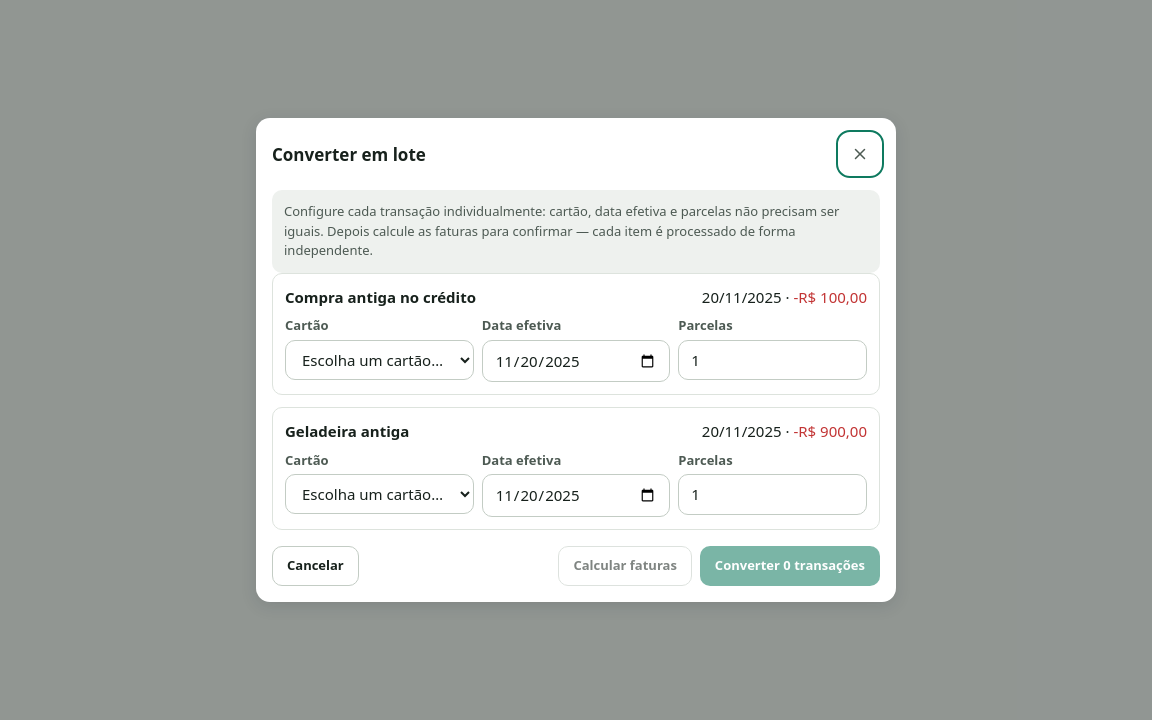
LegacyBatchConversion › previews per item and reports mixed results without hiding successes
Select "Cartão Roxo — limite disponível R$ 10.000,00" in the dropdown labelled "Cartão" below "Compra antiga no crédito" at (379, 360), box 285,340 -> 474,380
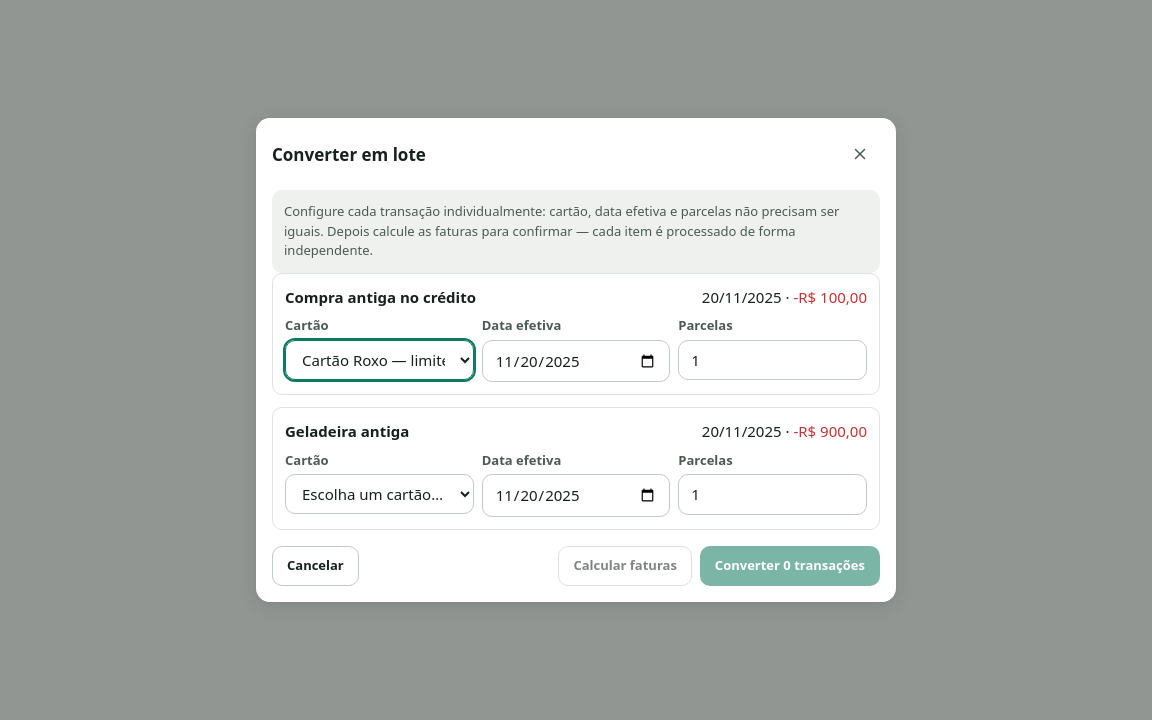
Select "Cartão Roxo — limite disponível R$ 10.000,00" in the dropdown labelled "Cartão" below "Geladeira antiga" at (379, 494), box 285,474 -> 474,514
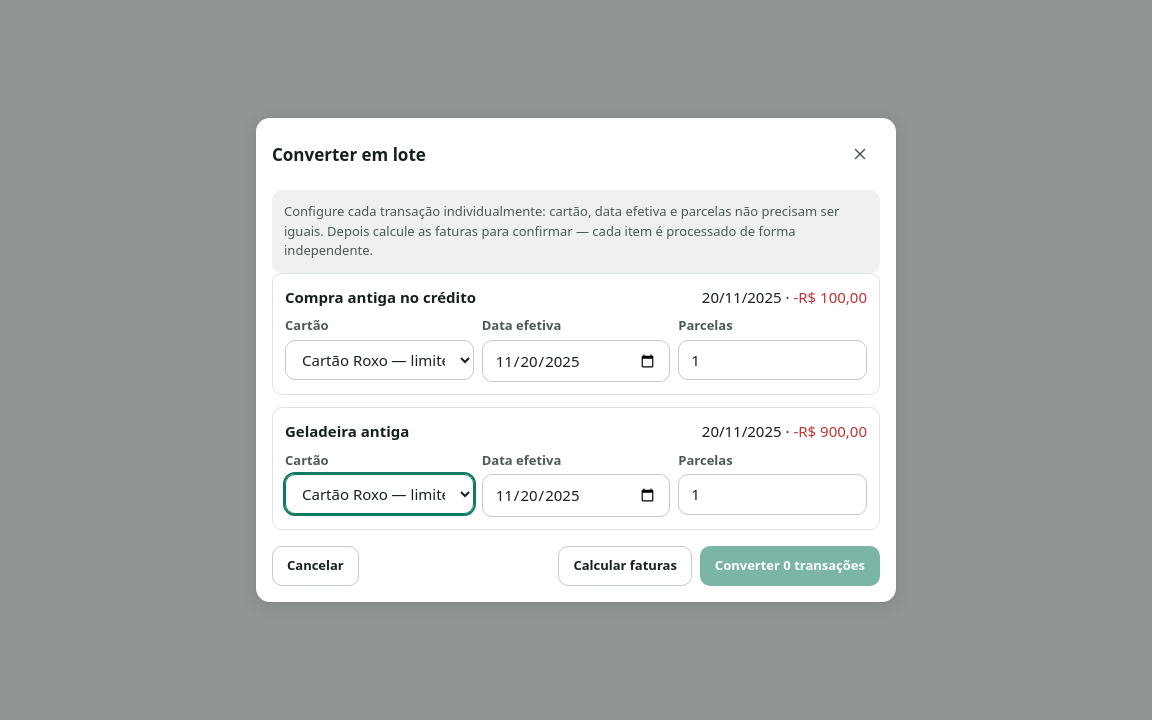
Click the button "Calcular faturas" at (625, 566), box 558,546 -> 692,586
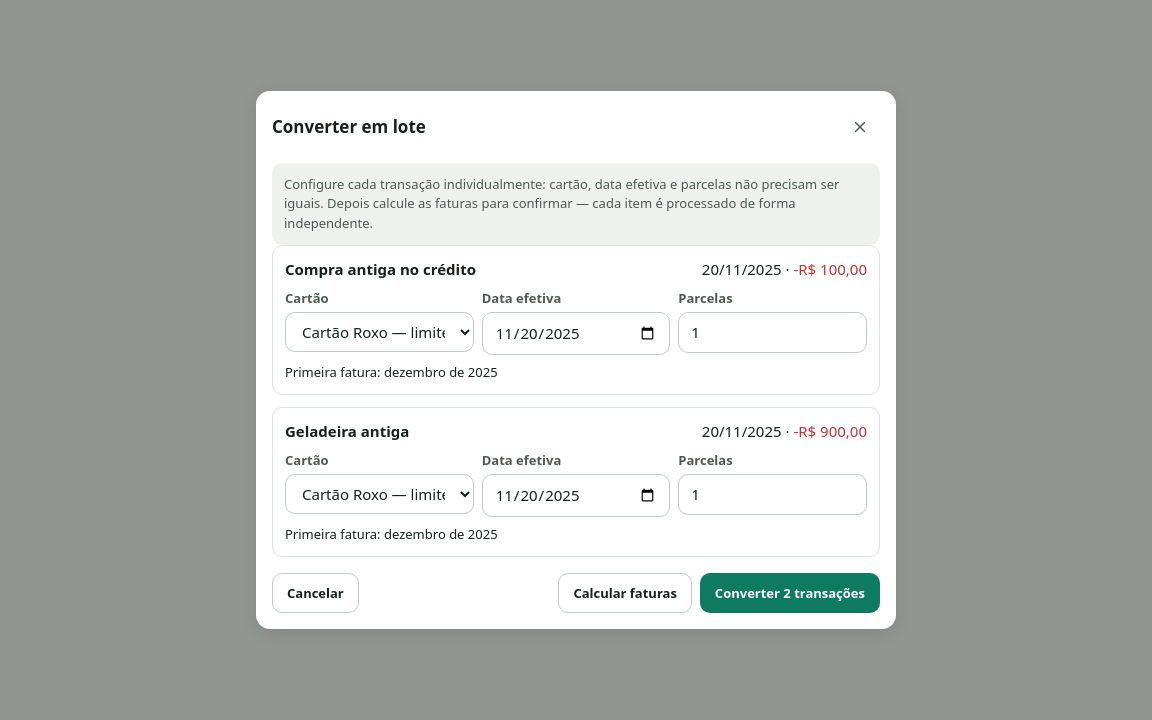
Expected: the text "Primeira fatura: dezembro de 2025" is shown 2 times, 285,363 -> 498,381; 285,525 -> 498,543
Click the button "Converter 2 transações" at (790, 593), box 700,573 -> 880,613
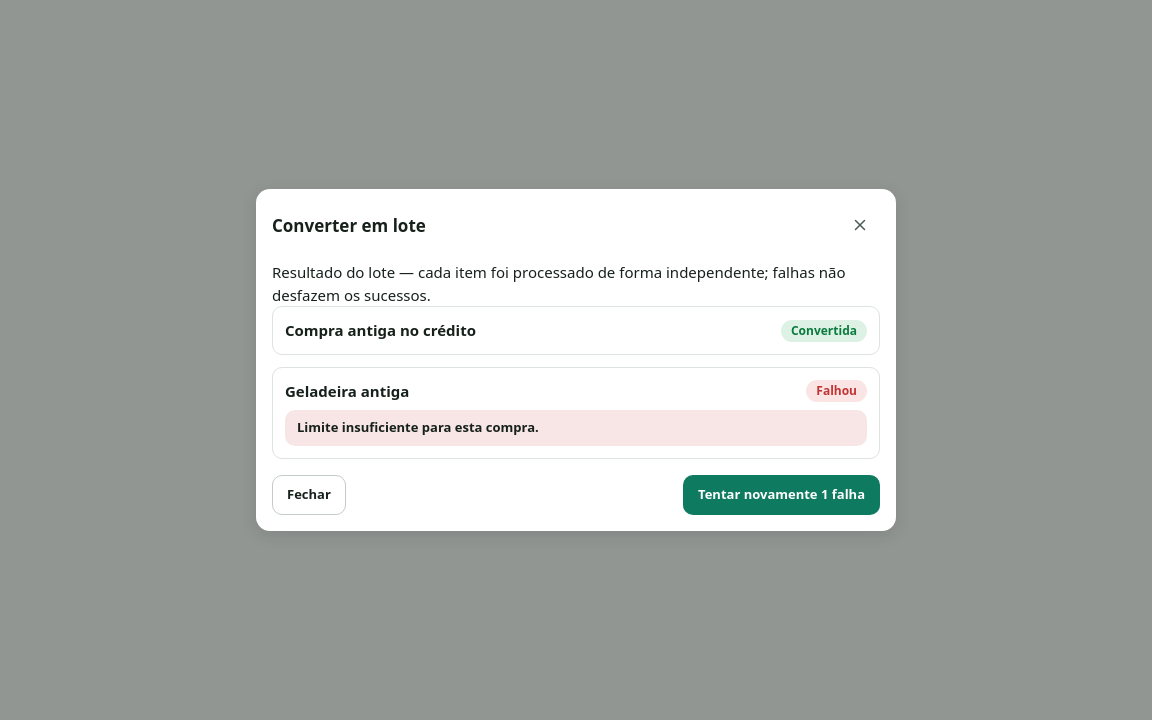
Expected: the text "Convertida" is shown, 791,322 -> 857,338
Expected: the text "Falhou" is shown, 816,382 -> 857,399
Expected: the text "Limite insuficiente para esta compra." is shown, 297,418 -> 539,436
